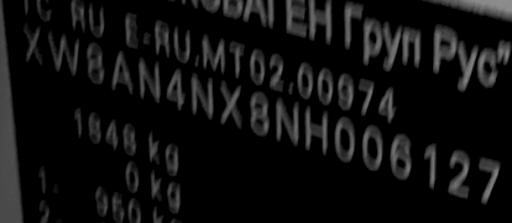letter: (46, 29, 82, 78), (446, 146, 474, 201), (474, 151, 502, 205), (188, 70, 216, 123), (218, 77, 246, 130), (274, 96, 302, 149), (304, 104, 330, 159), (107, 48, 135, 96), (332, 114, 358, 164), (388, 131, 414, 181), (362, 120, 386, 174), (136, 56, 162, 102), (247, 90, 271, 139), (163, 67, 187, 112), (21, 23, 45, 67), (420, 140, 438, 191), (84, 42, 104, 85)
